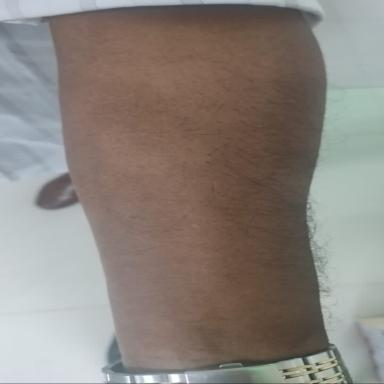normal skin: (49, 5, 330, 370)
